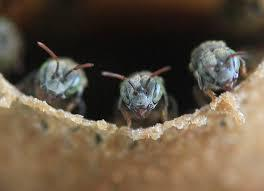Meliponula: (26, 40, 88, 116), (192, 32, 256, 104), (106, 61, 179, 119)
